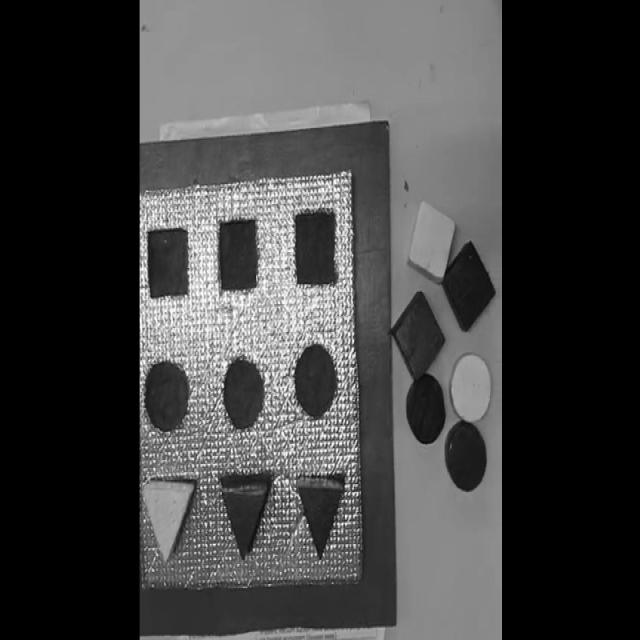bcircle: (449, 352, 492, 424), (406, 374, 446, 446)
bcube: (443, 242, 496, 332)
btriangle: (295, 473, 346, 559)
mtcircle: (144, 358, 190, 434), (293, 341, 337, 419), (222, 355, 266, 431)
mtcube: (293, 209, 337, 287), (218, 217, 260, 293), (147, 227, 189, 299)
rcircle: (444, 419, 487, 491)
rcube: (391, 290, 445, 380)
rtriangle: (218, 472, 273, 560)
wb: (140, 168, 364, 596)
ycube: (407, 199, 456, 286)
ytriangle: (143, 477, 197, 565)
